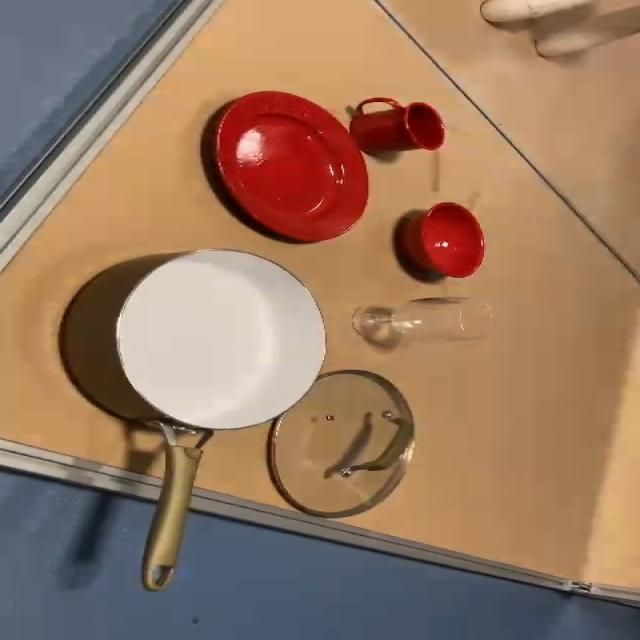Bowl: (410, 205, 493, 283)
Glass: (358, 296, 497, 346)
Plate: (213, 91, 377, 248)
cup: (348, 98, 444, 160)
pot: (55, 247, 340, 593)
